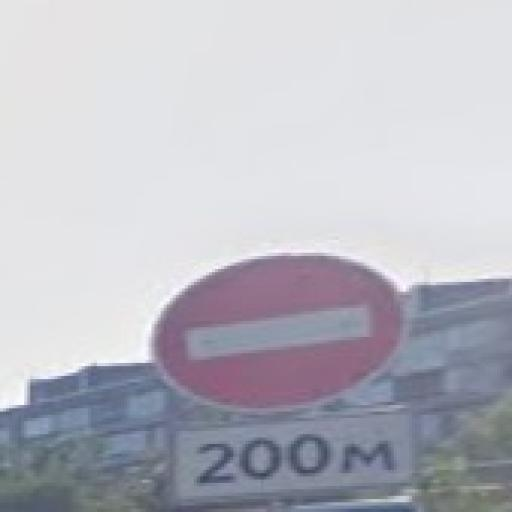traffic_sign: (149, 250, 413, 416)
